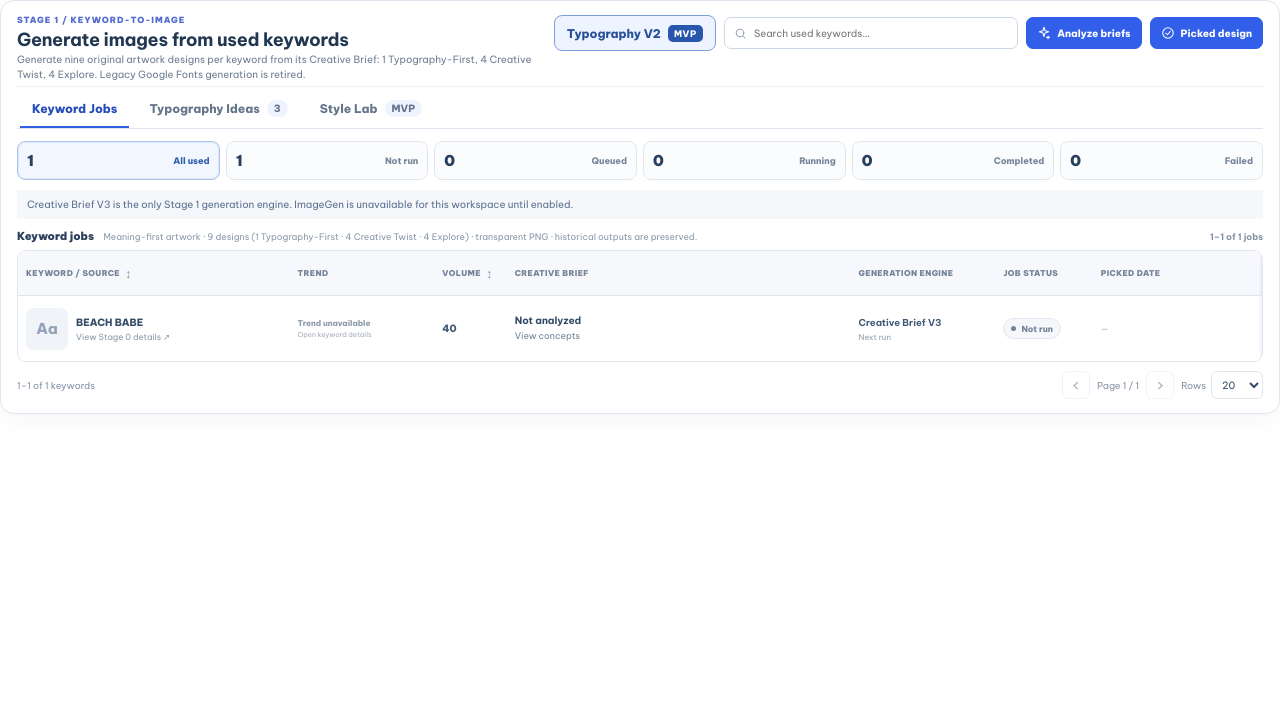
Stage 1 Typography V2 feature gating and non-destructive navigation › switches only inside Stage 1 and retains jobs table state
expect the navigation bar with test id "typography-stage1-subnav" shows "Typography Ideas 3": met, box [17,89,1263,129]
expect the table with class "rrugc-keyword-gen-table" shows "BEACH BABE": met, box [26,308,282,350]
Click the button "Typography Ideas 3" at (219,109), box [137,90,300,128]
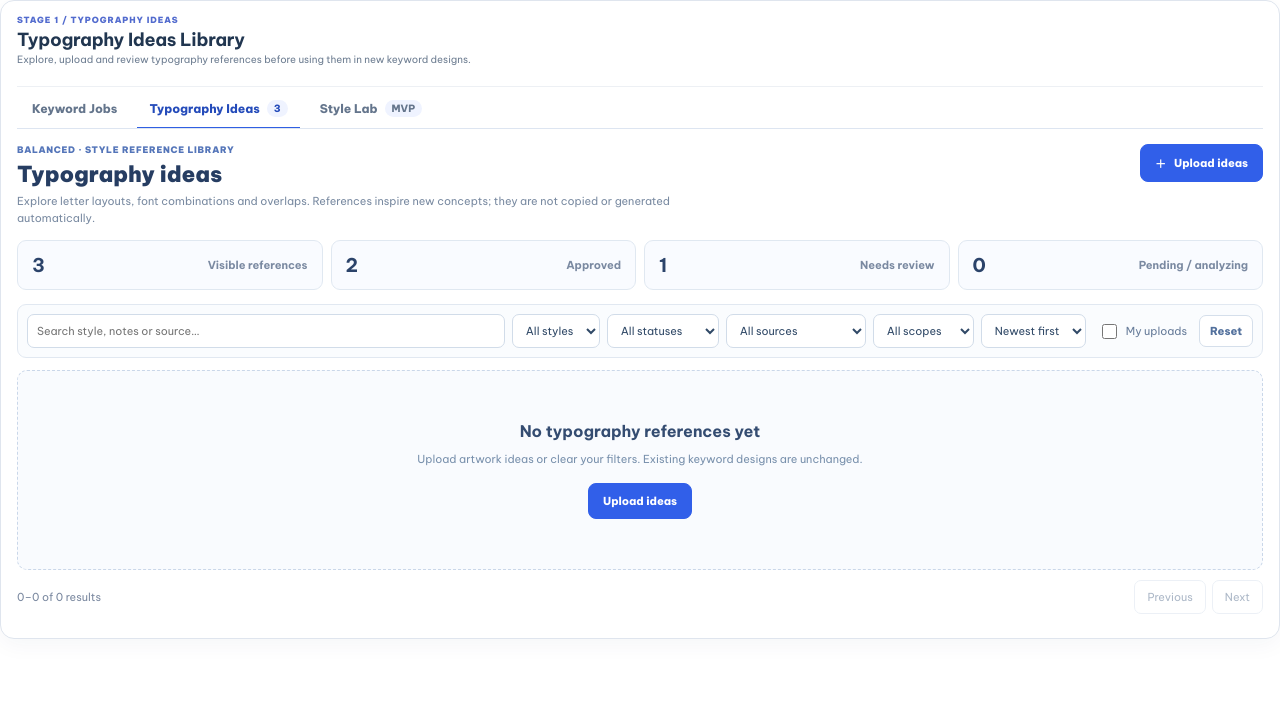
expect the text "Typography Ideas Library" is shown: met, box [17,28,245,51]
Click the button "Keyword Jobs" at (75,109), box [20,90,129,128]
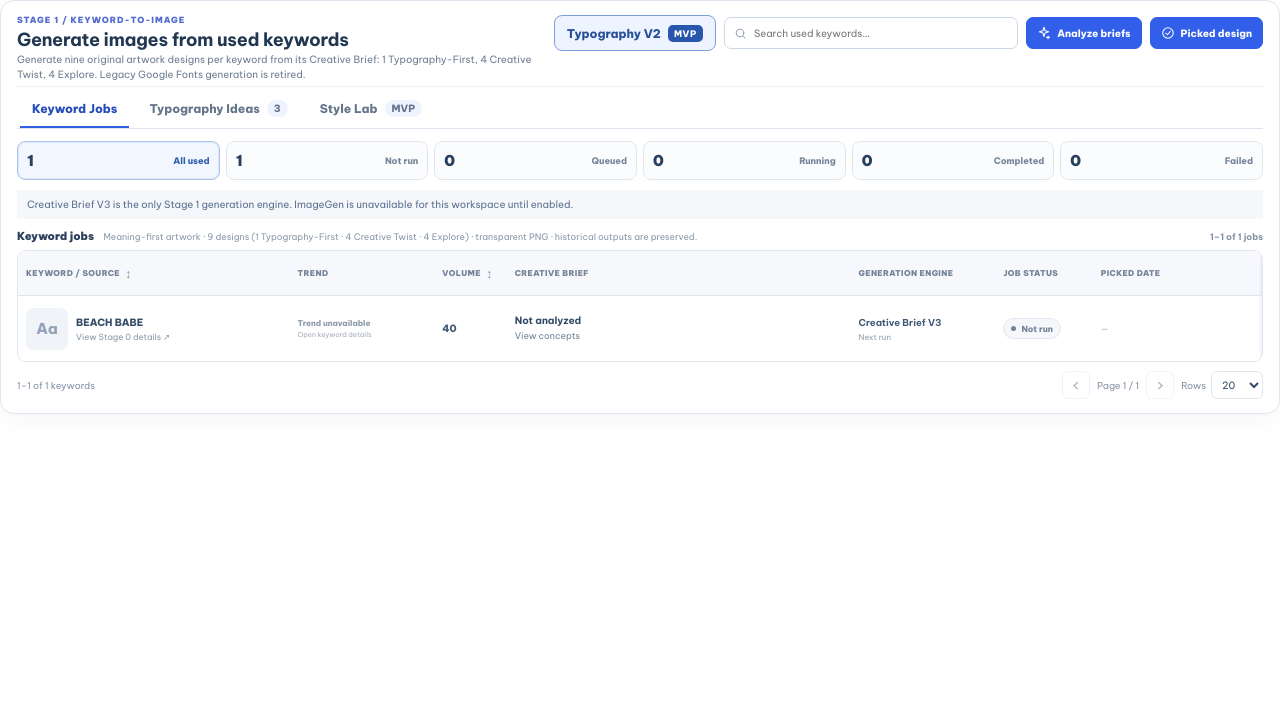
expect the text "Analyze briefs" is shown: met, box [1026,17,1142,49]
